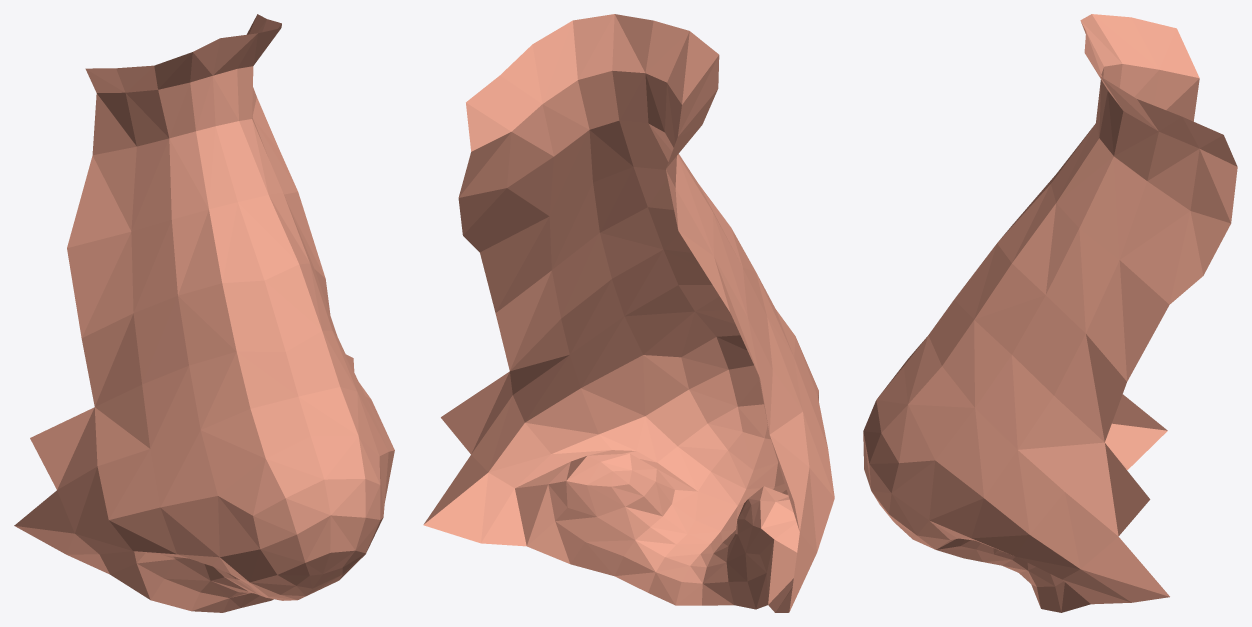
The model's file is nose22.obj.
3 renders of one model, left to right at view 1: azimuth 30°, elevation 25°; view 2: azimuth 150°, elevation 25°; view 3: azimuth 270°, elevation 25°, orthographic. The views are drawn at different scales.
Visible parts, largest first — view 1: Body; view 2: Body; view 3: Body.
Part boxes in pixels (bbox=[...]): Body: bbox=[14, 14, 394, 612]; Body: bbox=[423, 14, 834, 612]; Body: bbox=[863, 14, 1237, 612].
Size of the model in its own units: 1.22 by 1.92 by 1.16.
Materials: 1 (1 with a texture image).
